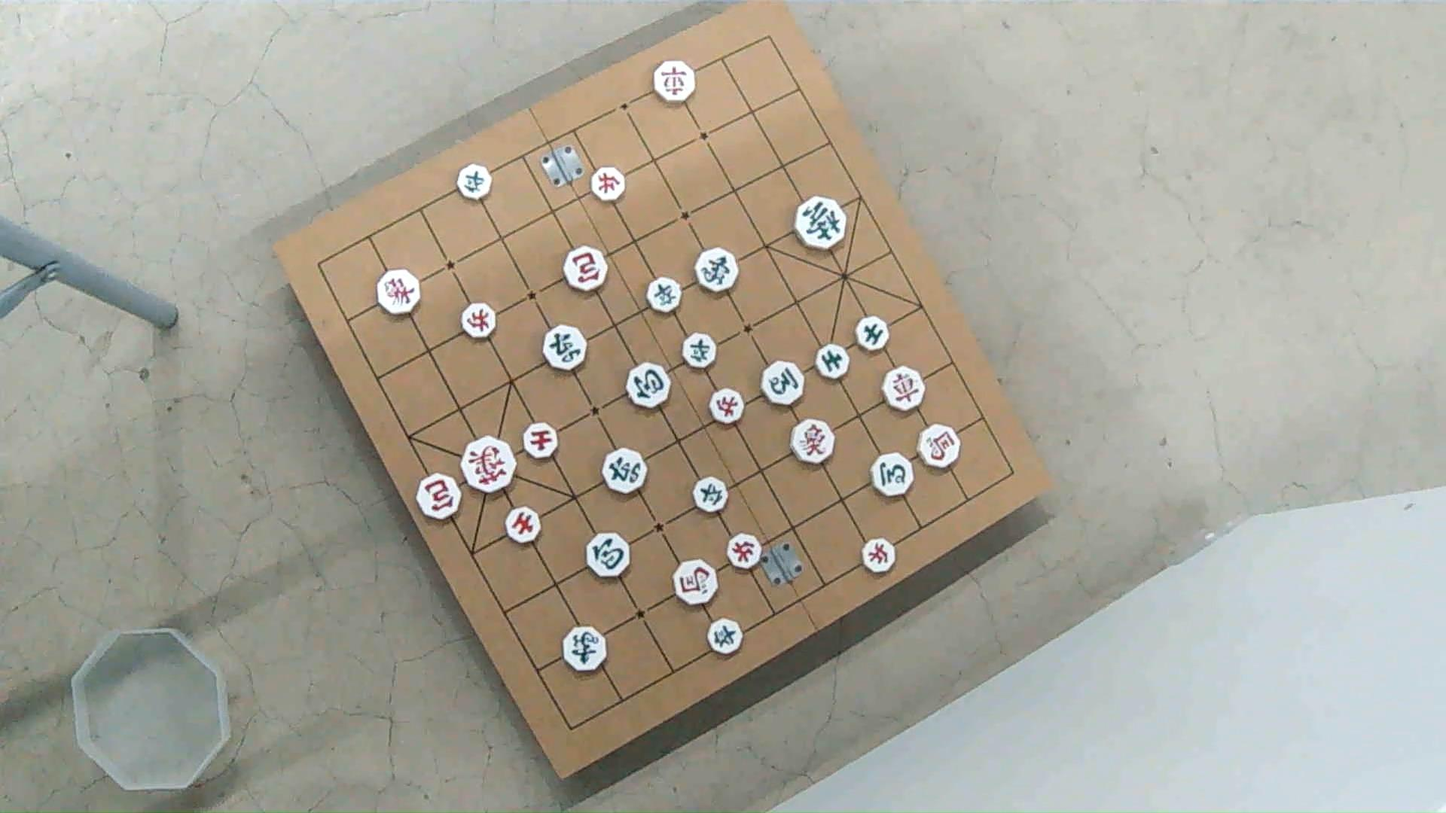cha_green: (604, 447, 648, 492), (541, 327, 585, 371)
cha_red: (880, 367, 923, 411), (653, 62, 694, 105)
jol_green: (691, 477, 728, 512), (646, 276, 681, 312), (679, 334, 714, 370), (459, 164, 494, 200), (709, 618, 743, 653)
jol_red: (462, 305, 497, 341), (860, 537, 895, 572), (727, 534, 761, 570), (593, 166, 627, 201), (709, 388, 743, 423)
ma_green: (761, 361, 804, 405), (871, 454, 913, 498)
ma_red: (673, 559, 716, 604), (917, 425, 959, 468)
po_green: (625, 362, 670, 407), (589, 533, 632, 578)
po_red: (564, 247, 609, 292), (415, 474, 459, 520)
sa_green: (814, 345, 847, 381), (858, 315, 891, 350)
sa_red: (523, 424, 560, 459), (503, 508, 538, 544)
sang_green: (694, 248, 740, 292), (563, 628, 606, 672)
sang_red: (376, 269, 419, 314), (792, 420, 835, 464)
wang_green: (794, 197, 847, 251)
wang_red: (462, 439, 515, 494)
